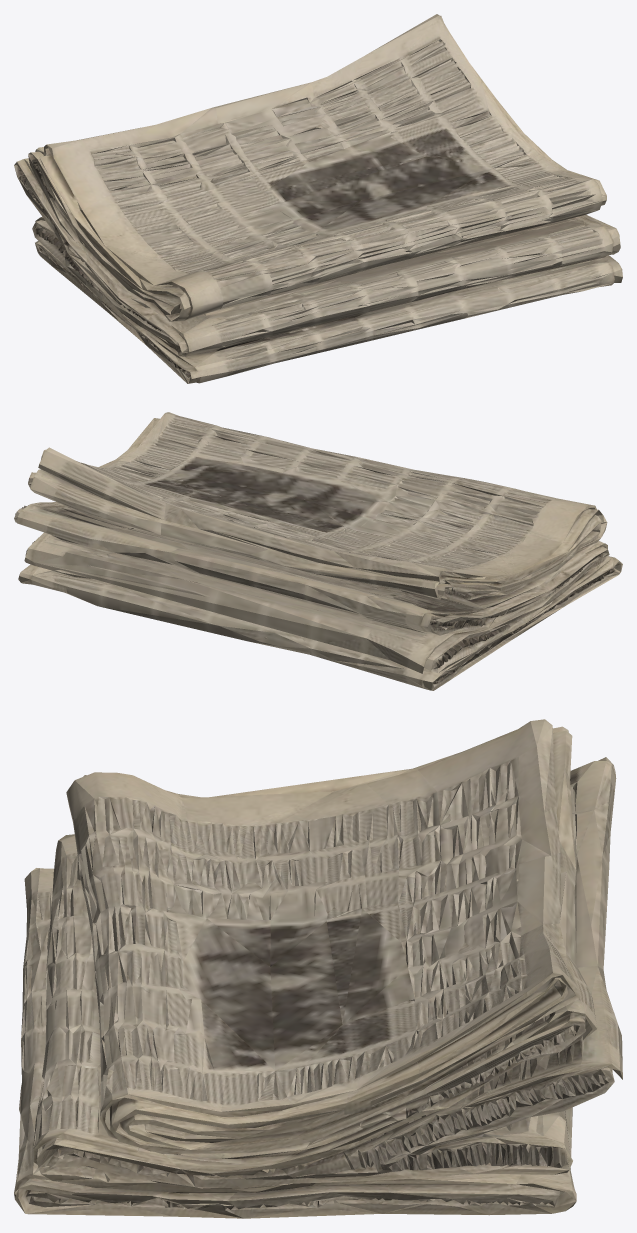
File: giornale.glb
3 renders of one model, top to bottom at view 1: azimuth 30°, elevation 25°; view 2: azimuth 150°, elevation 25°; view 3: azimuth 270°, elevation 25°, orthographic. The views are drawn at different scales.
Parts seen in each view (by area): view 1: Mesh_0; view 2: Mesh_0; view 3: Mesh_0.
Boxes of the visible parts, x1=… form: Mesh_0: x1=14, y1=14, x2=622, y2=383; Mesh_0: x1=14, y1=412, x2=622, y2=690; Mesh_0: x1=14, y1=719, x2=622, y2=1218.
Bounding box in the file's own units: 1.9 × 0.6084 × 1.45.
Materials: 1 (1 with a texture image).
